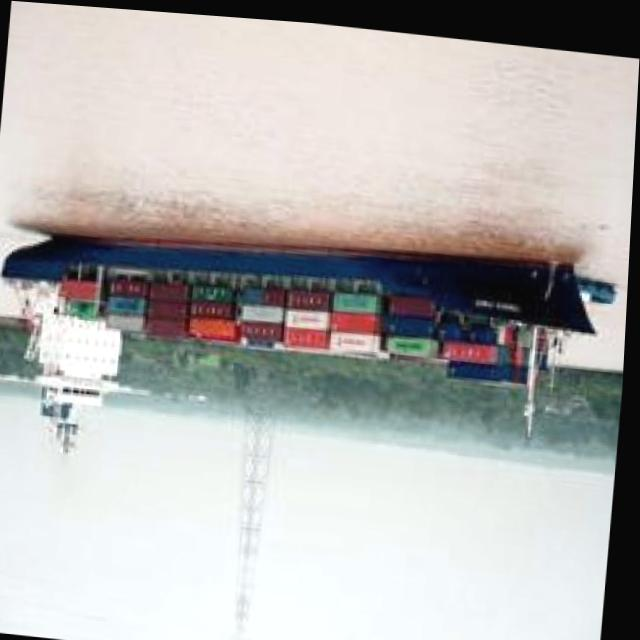ship2: (1, 232, 600, 455)
